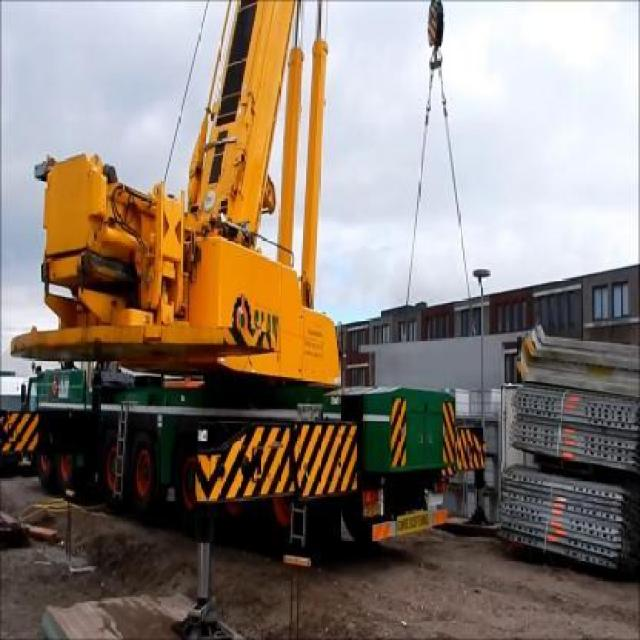Mobile Crane: (12, 0, 486, 614)
